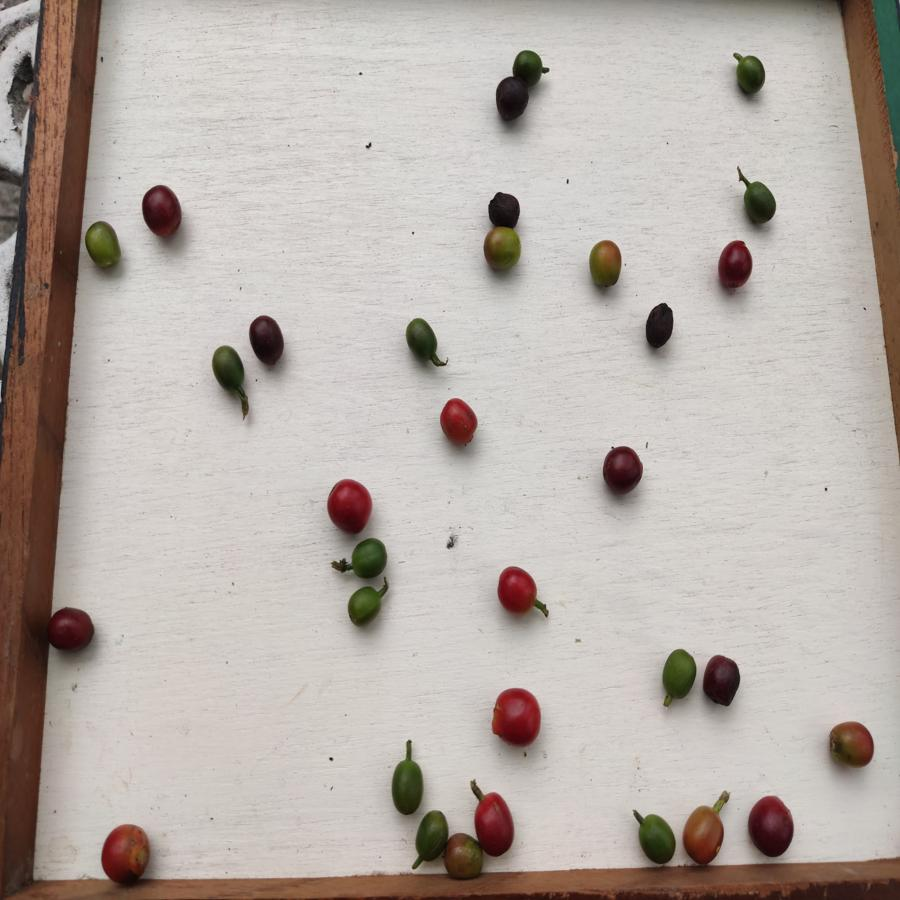Inmaduro: (633, 811, 679, 866), (389, 760, 427, 815), (661, 647, 698, 702), (83, 219, 122, 271), (413, 809, 448, 863), (740, 179, 779, 227), (403, 317, 439, 365), (212, 344, 245, 391), (351, 539, 389, 579), (734, 51, 767, 95), (346, 586, 381, 627), (511, 49, 546, 85)
Maduro: (100, 823, 153, 885), (325, 475, 377, 535), (490, 687, 542, 745), (477, 787, 516, 851), (438, 397, 481, 448), (495, 565, 538, 615)
Pinton: (682, 802, 727, 868), (829, 721, 875, 767), (481, 225, 524, 270), (589, 239, 624, 290), (445, 830, 481, 879)
Sobremaduro: (747, 796, 794, 857), (45, 607, 96, 655), (141, 183, 183, 241), (702, 655, 743, 709), (247, 315, 287, 369), (602, 443, 643, 493), (718, 238, 755, 289), (497, 77, 529, 123), (646, 303, 676, 349), (488, 190, 522, 225)
